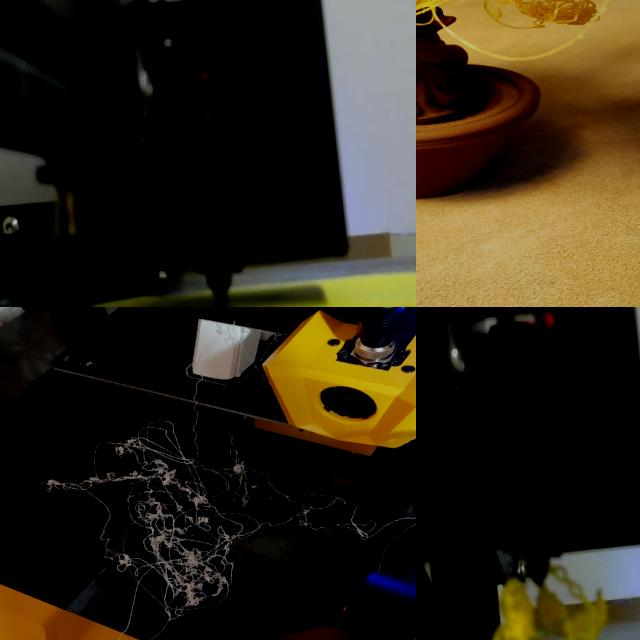spaghetti: (23, 381, 416, 640), (416, 0, 640, 105), (491, 565, 607, 640)
